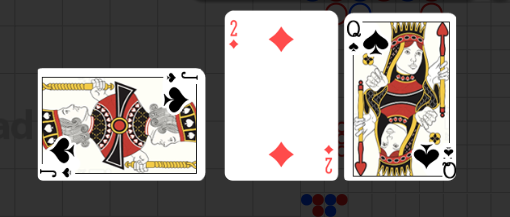2D: (322, 143, 334, 175)
9S: (442, 144, 456, 180)
